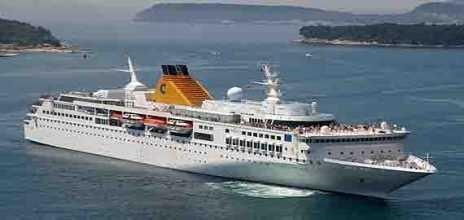youlun: (22, 43, 436, 194)
